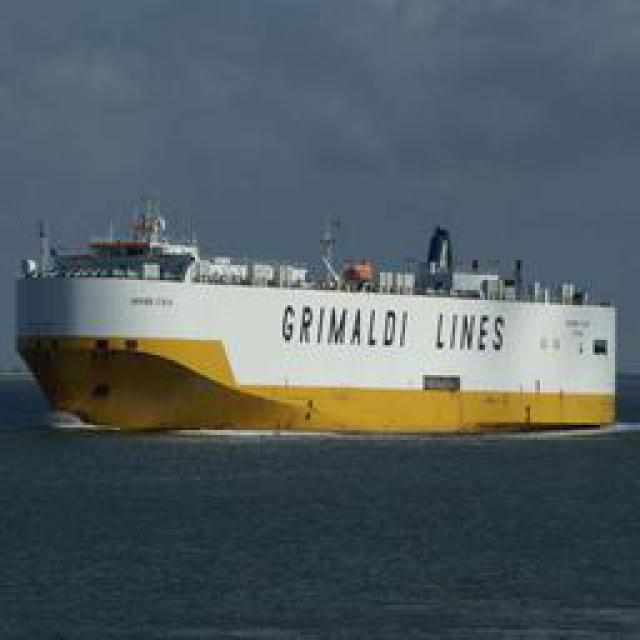Ship: (22, 190, 622, 438)
